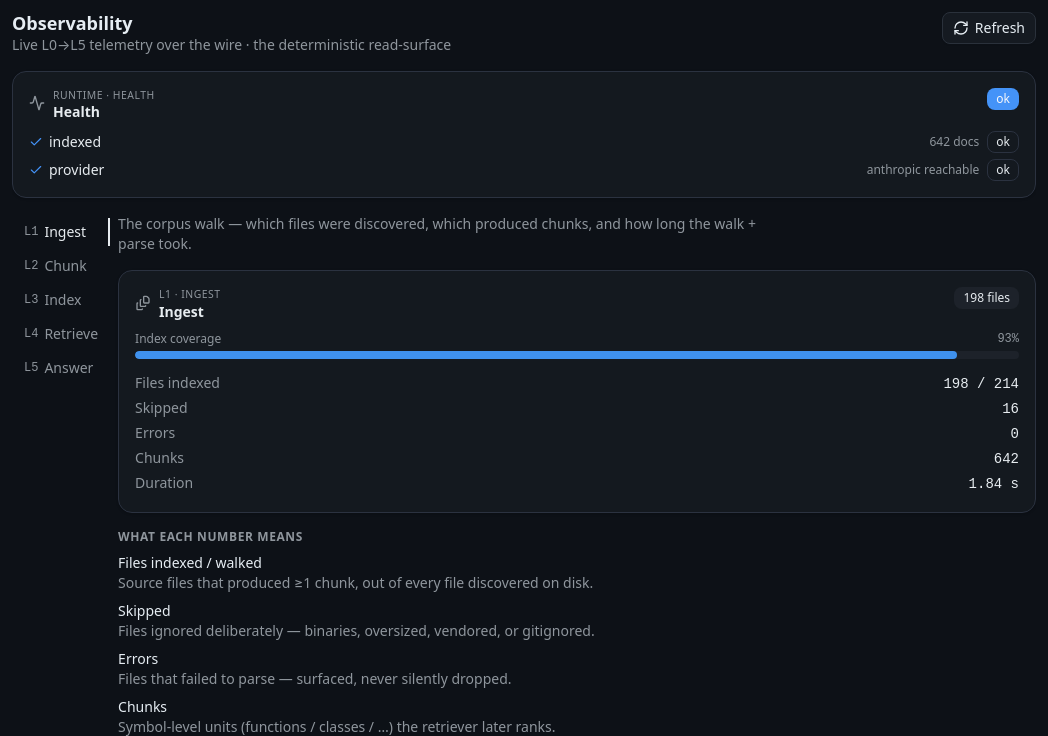
Scenario: ObservabilityTab › renders an empty state when there is no last query (null lastQuery)
Click the tab "L4 Retrieve". click: click(61, 334)
box: [15,319,107,349]
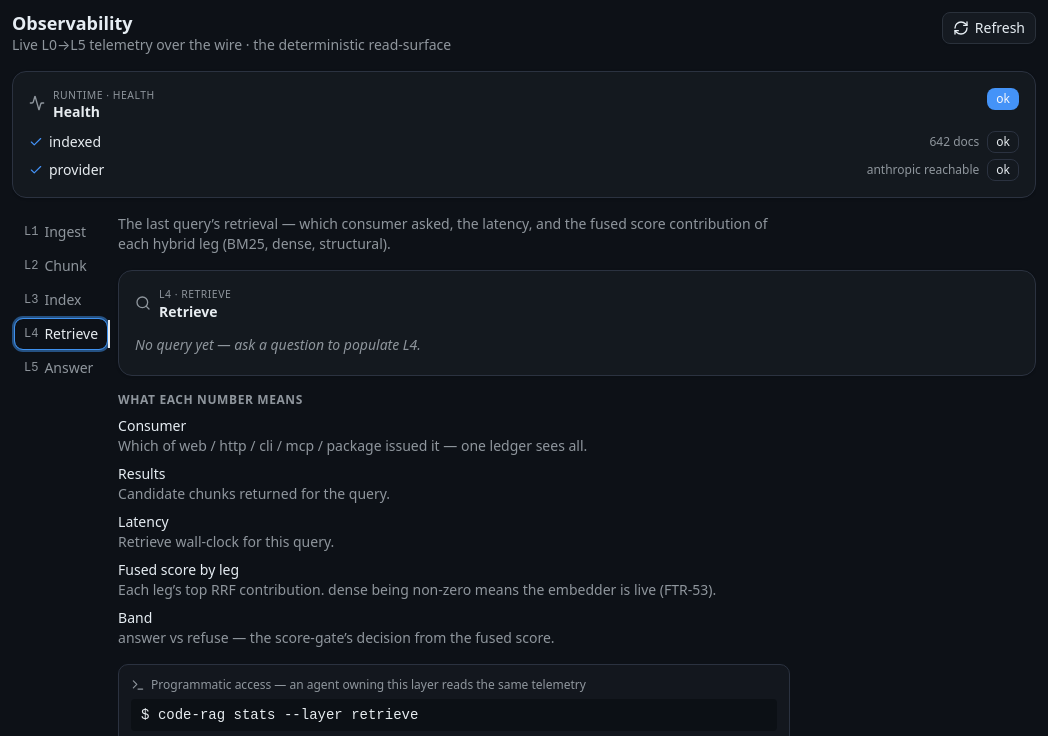
Expected: the text "No query yet — ask a question to populate L4." is shown, [135,335,421,354]
Click the tab "L5 Answer". click: click(61, 368)
box: [15,353,107,383]
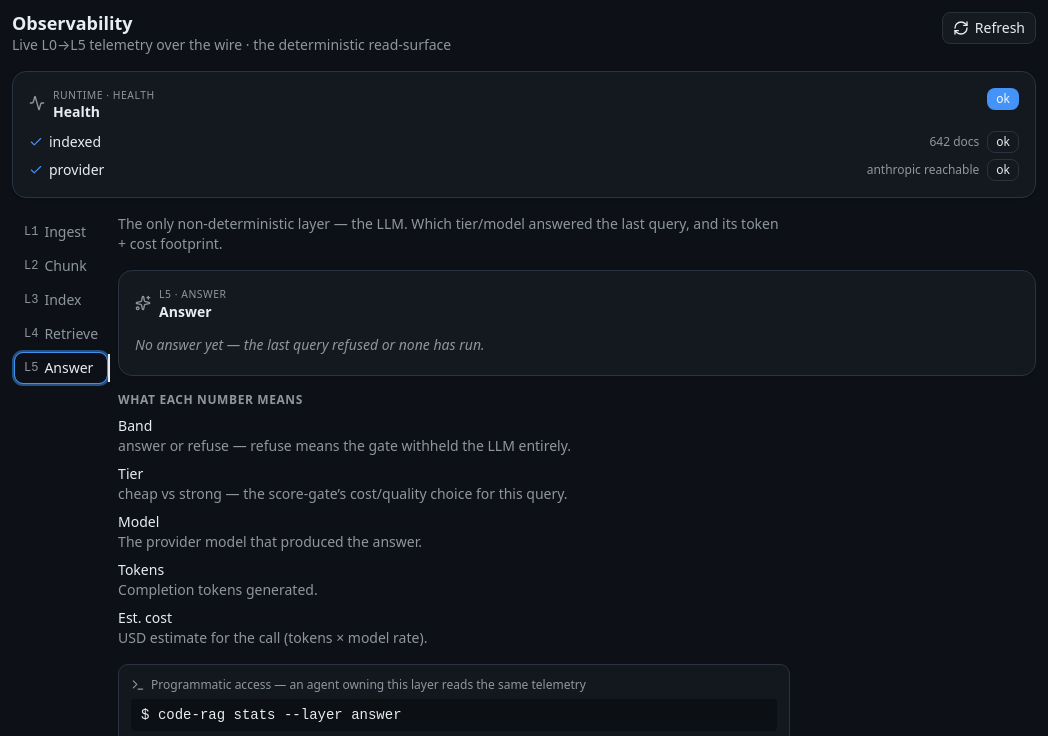
Expected: the text "No answer yet — the last query refused or none has run." is shown, [135,335,485,354]
